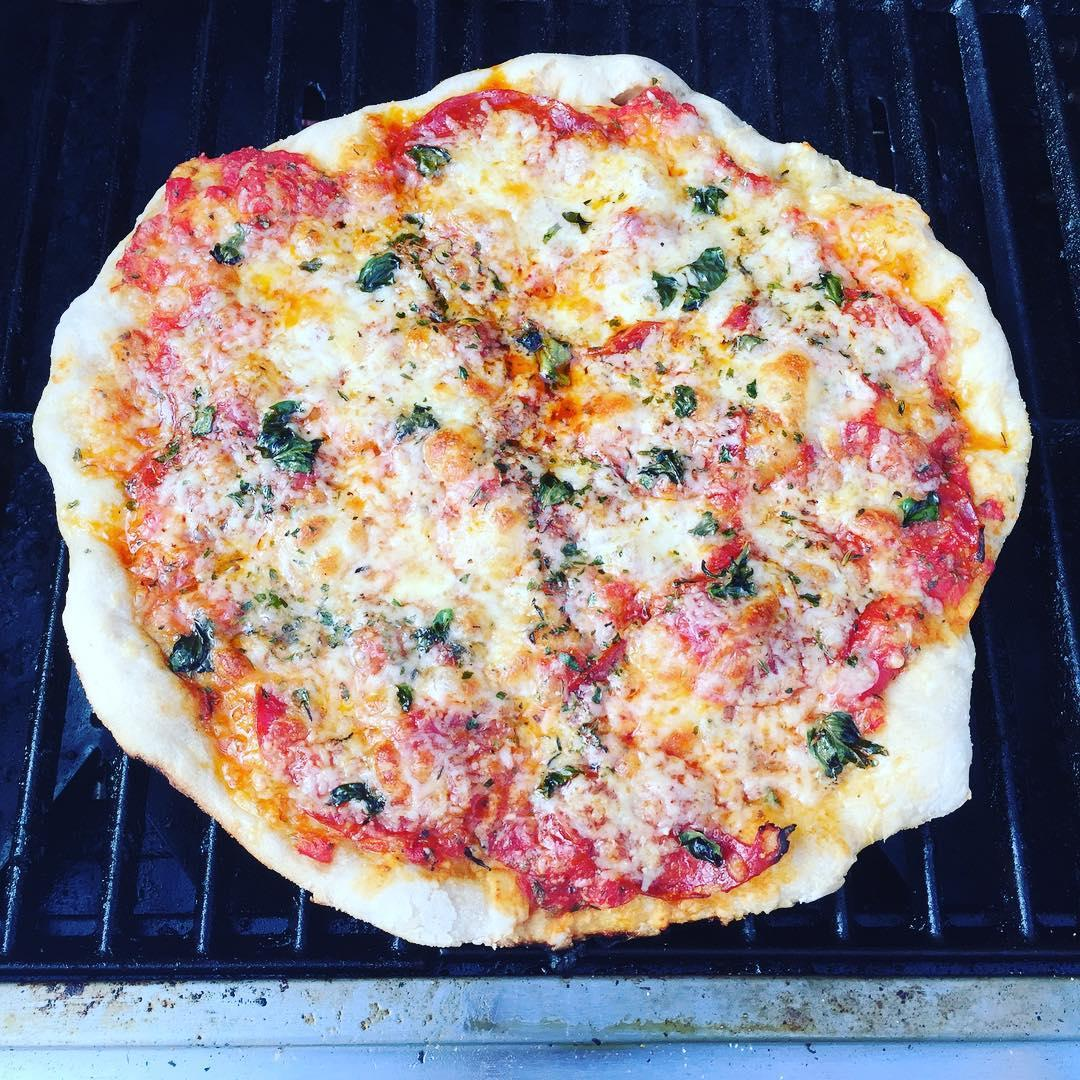Basil: (250, 390, 333, 497), (793, 693, 877, 772), (656, 246, 737, 319), (516, 463, 579, 542), (696, 546, 759, 620), (158, 616, 223, 670), (388, 141, 463, 183), (521, 331, 577, 384), (656, 373, 715, 423), (336, 248, 403, 289), (539, 541, 596, 589), (401, 605, 462, 649), (638, 450, 693, 497), (677, 180, 734, 222), (196, 223, 243, 271), (385, 401, 440, 442), (329, 785, 386, 820), (809, 269, 854, 313), (890, 483, 941, 521), (535, 757, 582, 797), (185, 401, 221, 445)
Pizza: (35, 51, 1019, 932)
